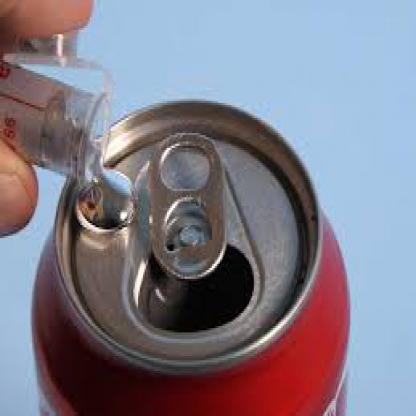Compsot: (29, 96, 350, 414), (148, 128, 225, 278)
